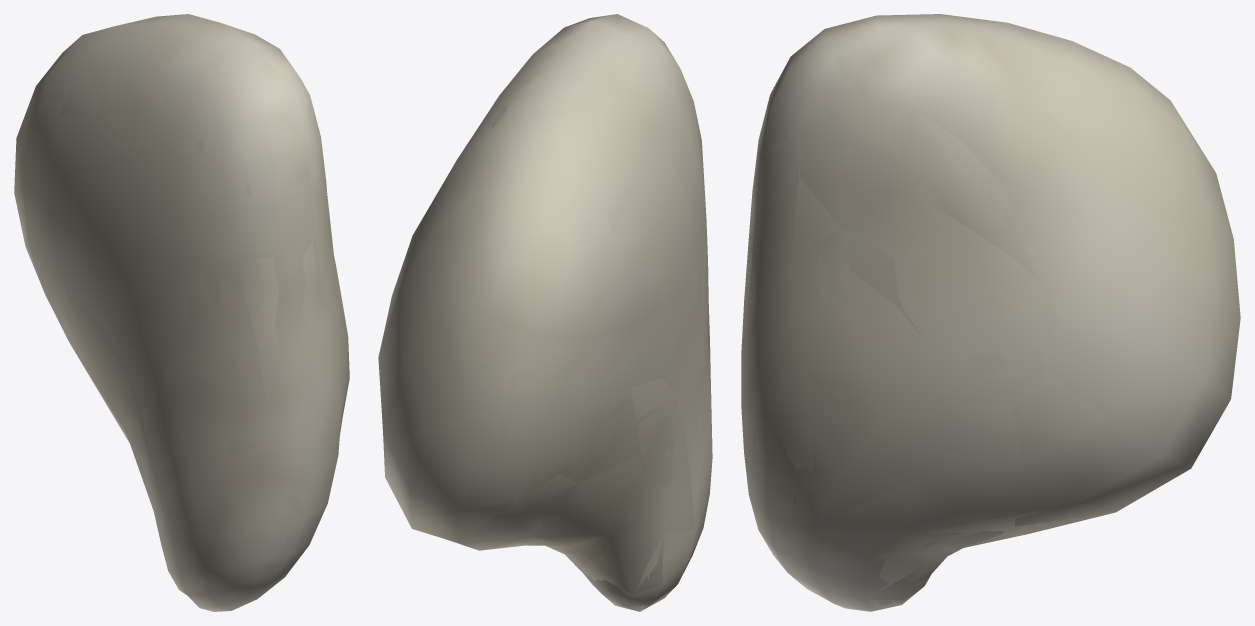
File: L tarsi tertium.fbx
3 renders of one model, left to right at view 1: azimuth 30°, elevation 25°; view 2: azimuth 150°, elevation 25°; view 3: azimuth 270°, elevation 25°, orthographic. The views are drawn at different scales.
Parts seen in each view (by area): view 1: L tarsi tertium, L tarsi tertium low, L tarsi tertium high; view 2: L tarsi tertium, L tarsi tertium low, L tarsi tertium high; view 3: L tarsi tertium, L tarsi tertium low, L tarsi tertium high.
Part boxes in pixels (bbox=[...]): L tarsi tertium: bbox=[14, 14, 349, 611]; L tarsi tertium low: bbox=[17, 43, 349, 543]; L tarsi tertium high: bbox=[21, 20, 343, 609]; L tarsi tertium: bbox=[378, 14, 712, 611]; L tarsi tertium low: bbox=[378, 19, 709, 611]; L tarsi tertium high: bbox=[391, 92, 708, 605]; L tarsi tertium: bbox=[741, 14, 1240, 611]; L tarsi tertium low: bbox=[748, 26, 1238, 598]; L tarsi tertium high: bbox=[752, 38, 1198, 605].
Size of the model in its own units: 0.2251 by 0.5343 by 0.399.
Materials: 1 (1 with a texture image).
